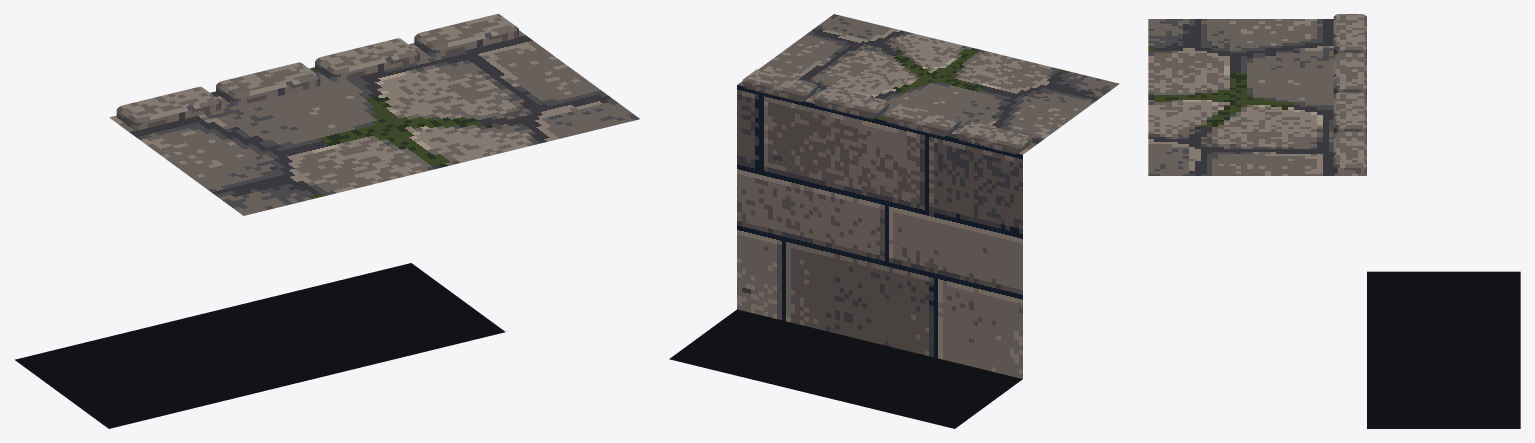
Rendered from dgn.pit__edge.glb.
The picture shows the model from 3 angles, left to right: view 1: azimuth 30°, elevation 25°; view 2: azimuth 150°, elevation 25°; view 3: azimuth 270°, elevation 25°; orthographic projection. The views are drawn at different scales.
Visible parts, largest first — view 1: kit_shell_floor, kit_card_void, kit_rim; view 2: kit_shell_shaft, kit_shell_floor, kit_card_void, kit_rim; view 3: kit_shell_floor, kit_card_void, kit_rim.
Boxes of the visible parts, bbox=[...] form: kit_shell_floor: bbox=[109, 30, 639, 215]; kit_card_void: bbox=[14, 263, 505, 428]; kit_rim: bbox=[116, 14, 518, 130]; kit_shell_shaft: bbox=[737, 85, 1022, 378]; kit_shell_floor: bbox=[737, 14, 1119, 154]; kit_card_void: bbox=[669, 309, 1022, 428]; kit_rim: bbox=[742, 69, 1032, 154]; kit_shell_floor: bbox=[1148, 19, 1366, 175]; kit_card_void: bbox=[1367, 271, 1520, 428]; kit_rim: bbox=[1333, 14, 1366, 173].
Size of the model in its own units: 4 by 3.1 by 4.
Materials: 4 (4 with a texture image).
